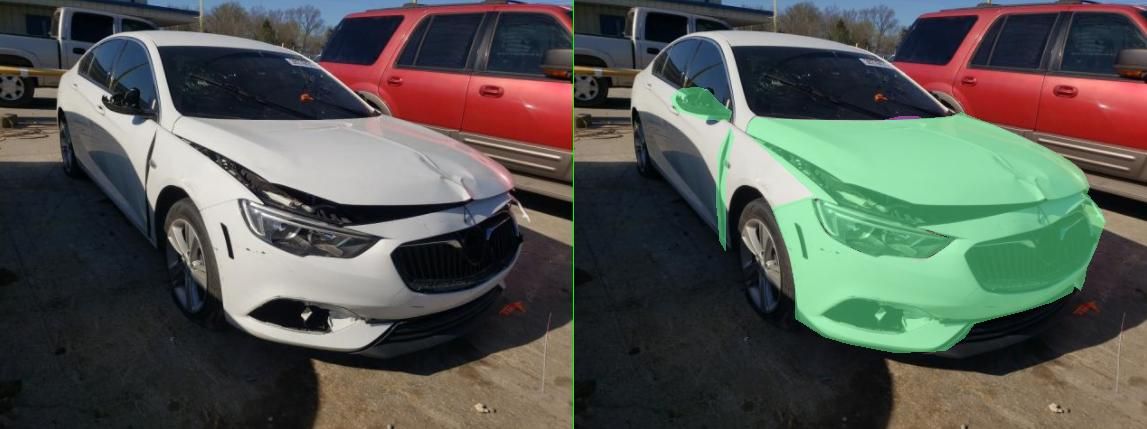Broken part: (394, 193, 1063, 352), (344, 112, 1031, 230), (476, 200, 759, 259), (284, 127, 320, 250), (192, 87, 314, 120)
Dent: (821, 150, 967, 204), (587, 116, 723, 137)
Missing part: (492, 291, 731, 338)
Paint chip: (815, 303, 845, 310), (490, 245, 506, 258), (518, 249, 536, 260)
